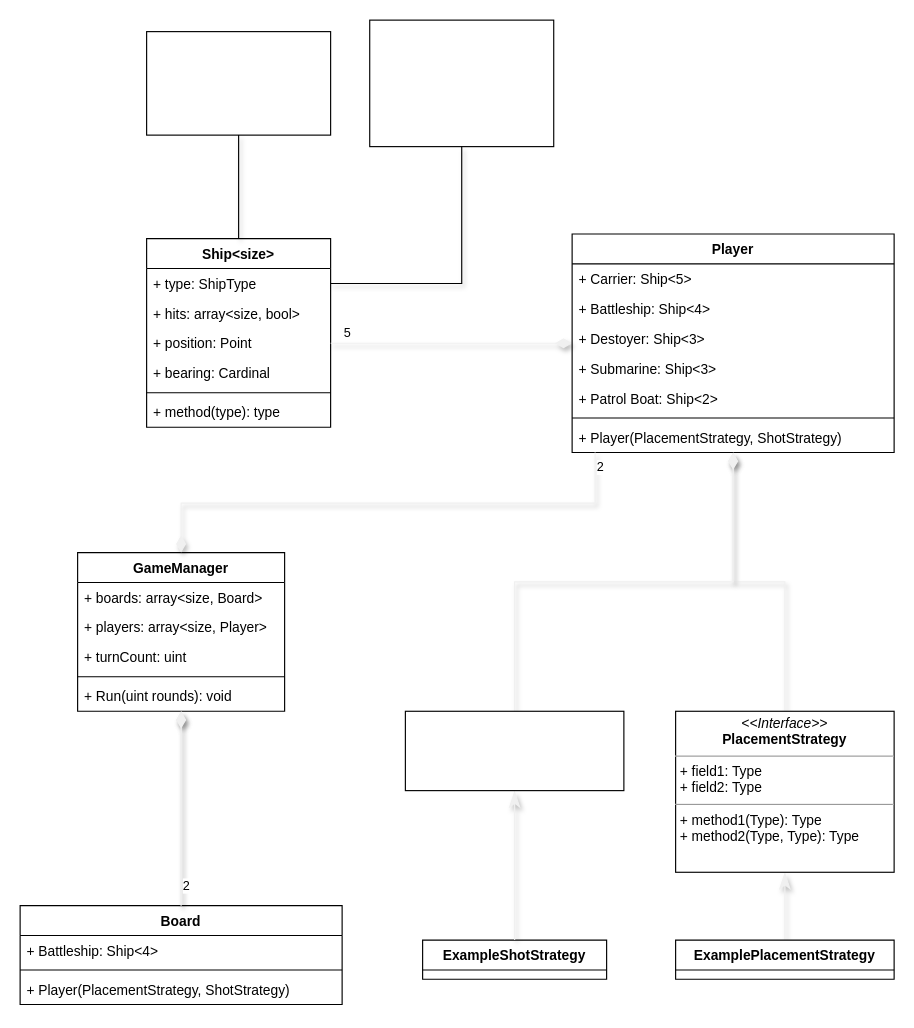
This 914x1028 diagram has some shape labels left out. Each missing label, with the centre of its shape:
<<Interface>> ShotStrategy + Fire(): pixel 514 750
Cardinal : enum North South East West: pixel 238 82
ShipType : enum Carrier Battleship Destroyer Submarine Patrol Boat: pixel 461 83
